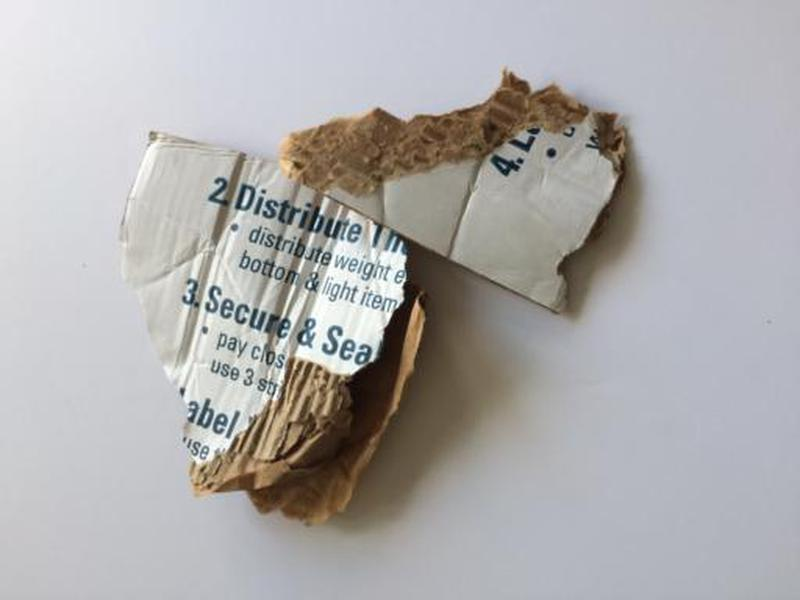cardboard: (116, 132, 441, 533), (268, 67, 643, 321)
